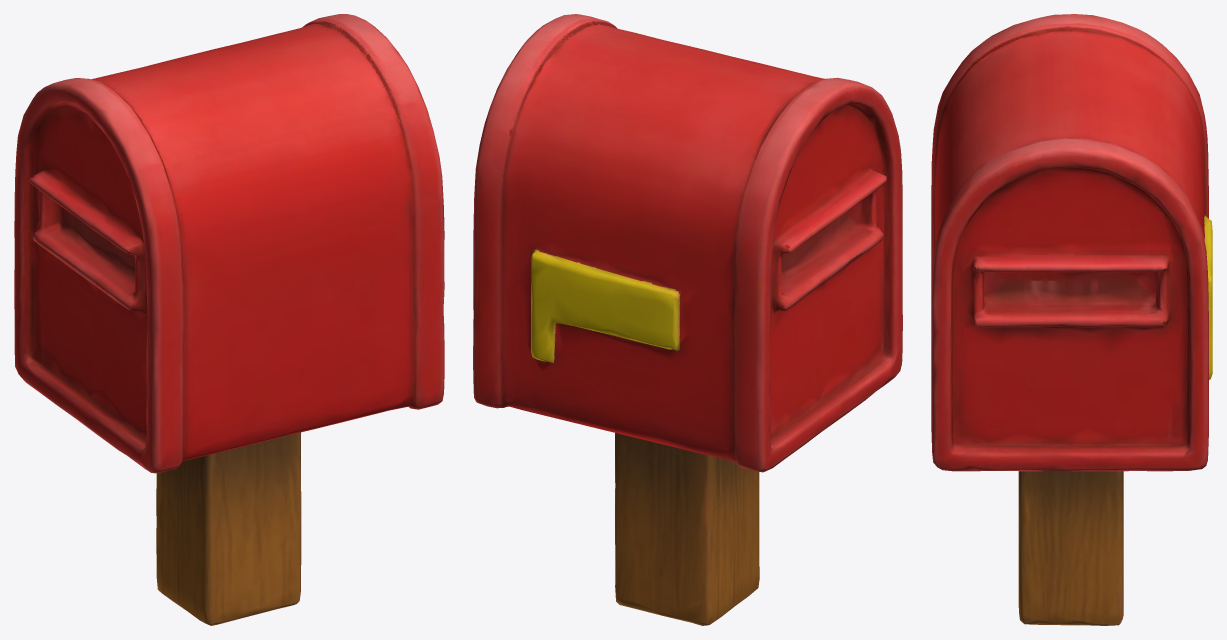
Rendered from mailbox.glb.
3 renders of one model, left to right at view 1: azimuth 30°, elevation 25°; view 2: azimuth 150°, elevation 25°; view 3: azimuth 270°, elevation 25°, orthographic. The views are drawn at different scales.
Bounding box in the file's own units: 0.5884 × 1 × 0.4861.
Materials: 1 (1 with a texture image).
